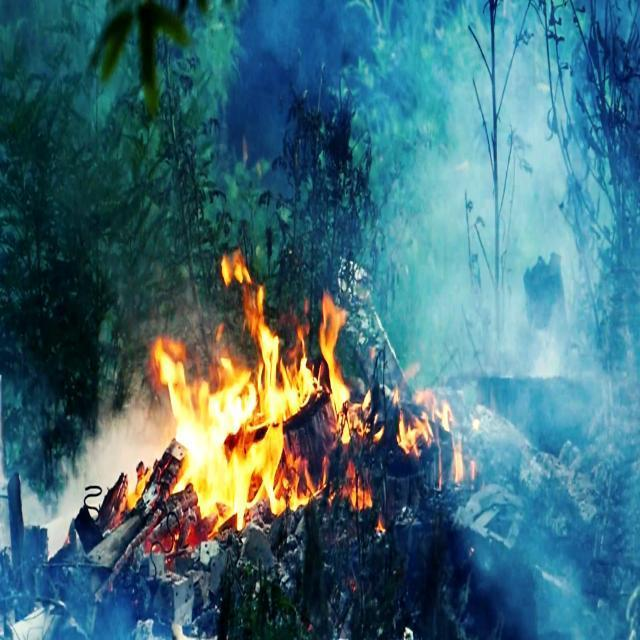Fire: (127, 234, 420, 530)
Smoke: (345, 22, 640, 502)
